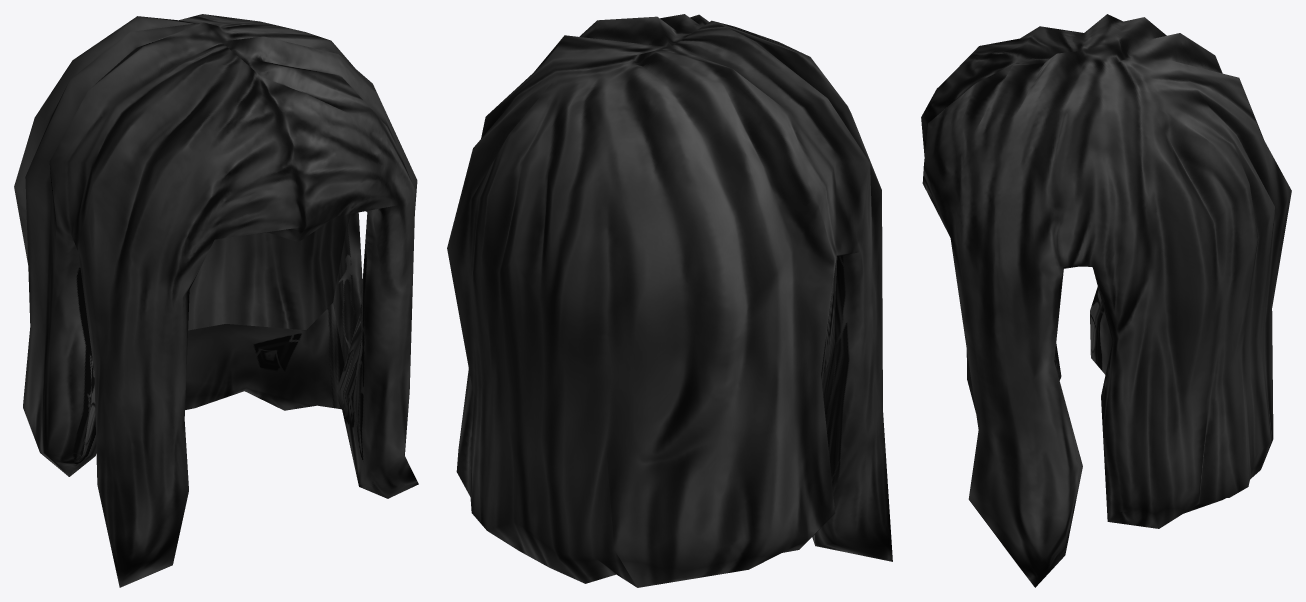
Rendered from AF_M_hair_G_17.fbx.
The picture shows the model from 3 angles, left to right: view 1: azimuth 30°, elevation 25°; view 2: azimuth 150°, elevation 25°; view 3: azimuth 270°, elevation 25°; orthographic projection. The views are drawn at different scales.
Visible parts, largest first — view 1: AF_M_hair_G_17; view 2: AF_M_hair_G_17; view 3: AF_M_hair_G_17.
Part boxes in pixels (x1,y1,x2,y2): AF_M_hair_G_17: (14,14,418,587); AF_M_hair_G_17: (447,14,892,587); AF_M_hair_G_17: (921,14,1291,587).
Bounding box in the file's own units: 747 × 1033 × 736.
